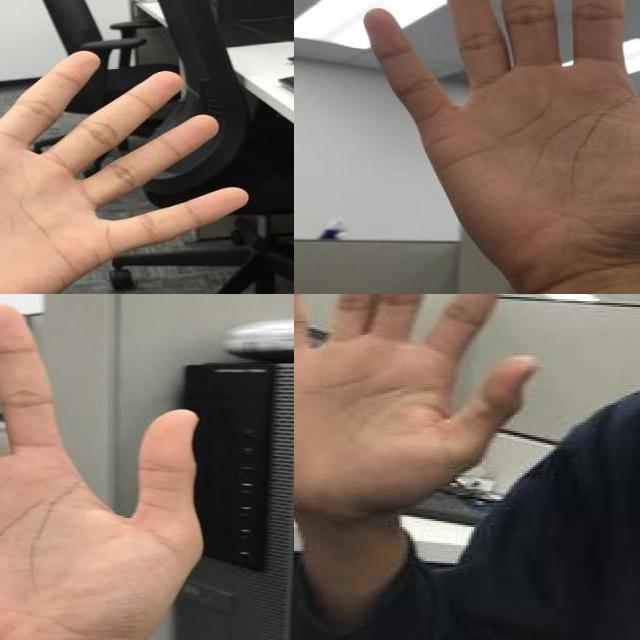no-gloves: (361, 0, 640, 290), (0, 294, 211, 640), (0, 44, 250, 294), (294, 294, 541, 513)
